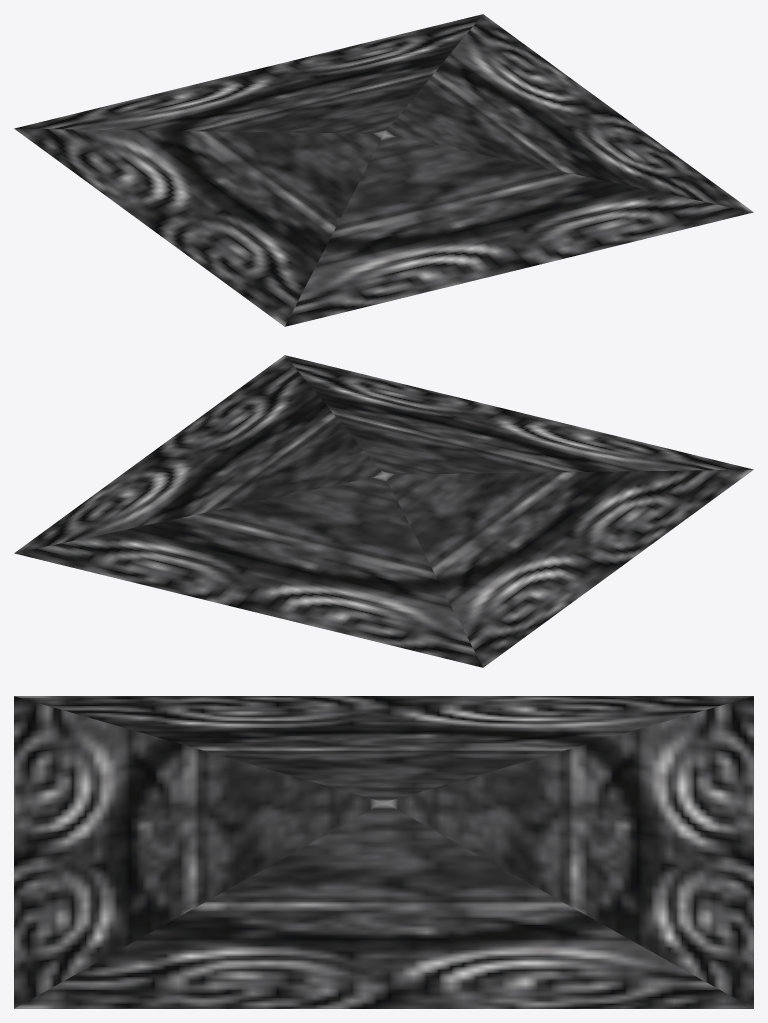
The picture shows the model from 3 angles, top to bottom: view 1: azimuth 30°, elevation 25°; view 2: azimuth 150°, elevation 25°; view 3: azimuth 270°, elevation 25°; orthographic projection. The views are drawn at different scales.
Parts seen in each view (by area): view 1: SMDImport; view 2: SMDImport; view 3: SMDImport.
Part boxes in pixels (x1,y1,x2,y2): SMDImport: (14, 14, 753, 326); SMDImport: (14, 355, 753, 667); SMDImport: (14, 696, 753, 1008).
Bounding box in the file's own units: 125 × 9.33 × 125.
